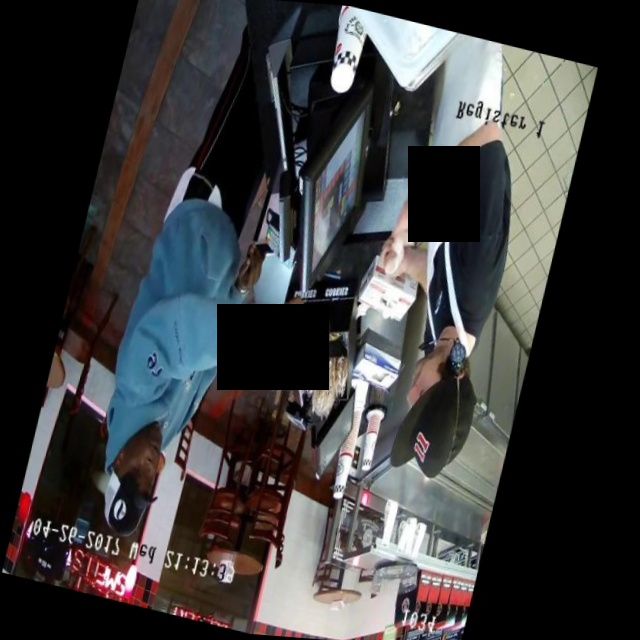gun: (248, 298, 355, 415)
